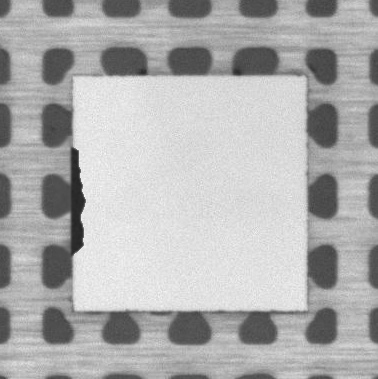DIE_BROKEN: (68, 140, 88, 257)
